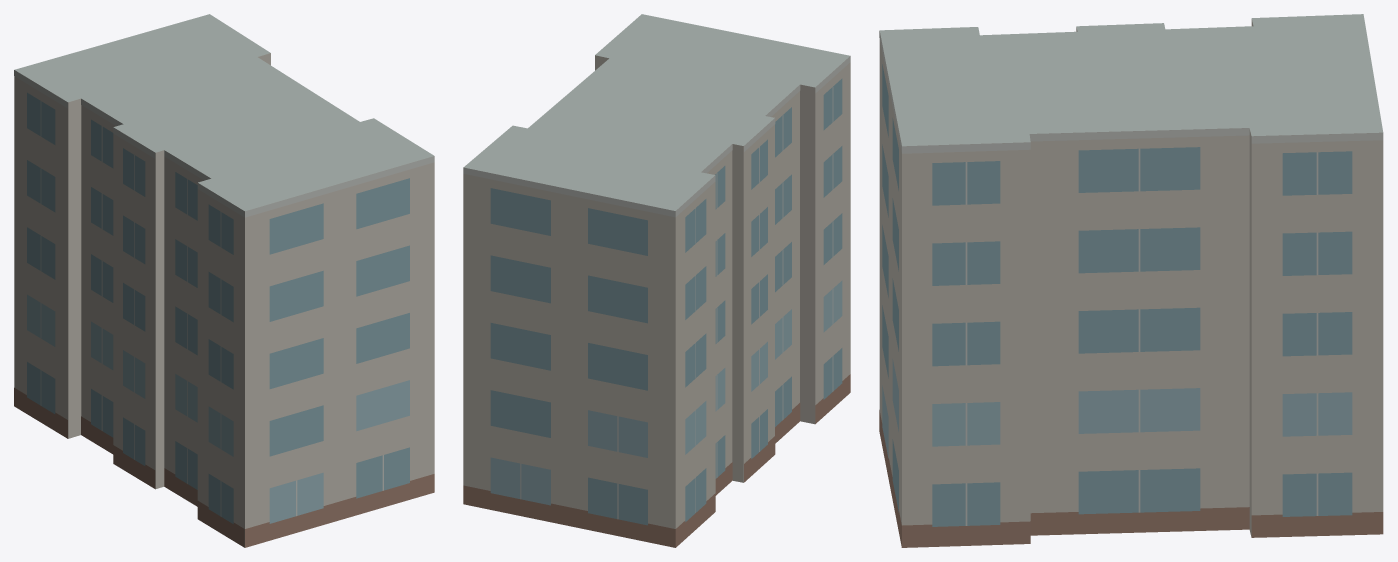
The model's file is survey-upis-33000834.glb.
3 views of the same model, side by side, from view 1: azimuth 30°, elevation 25°; view 2: azimuth 150°, elevation 25°; view 3: azimuth 270°, elevation 25° (orthographic). The views are drawn at different scales.
Parts seen in each view (by area): view 1: survey-upis-33000834.tmp; view 2: survey-upis-33000834.tmp; view 3: survey-upis-33000834.tmp.
Part boxes in pixels (bbox=[...]): survey-upis-33000834.tmp: bbox=[14, 14, 434, 547]; survey-upis-33000834.tmp: bbox=[463, 14, 850, 547]; survey-upis-33000834.tmp: bbox=[879, 14, 1383, 547].
Bounding box in the file's own units: 9.19 × 13 × 14.79.
